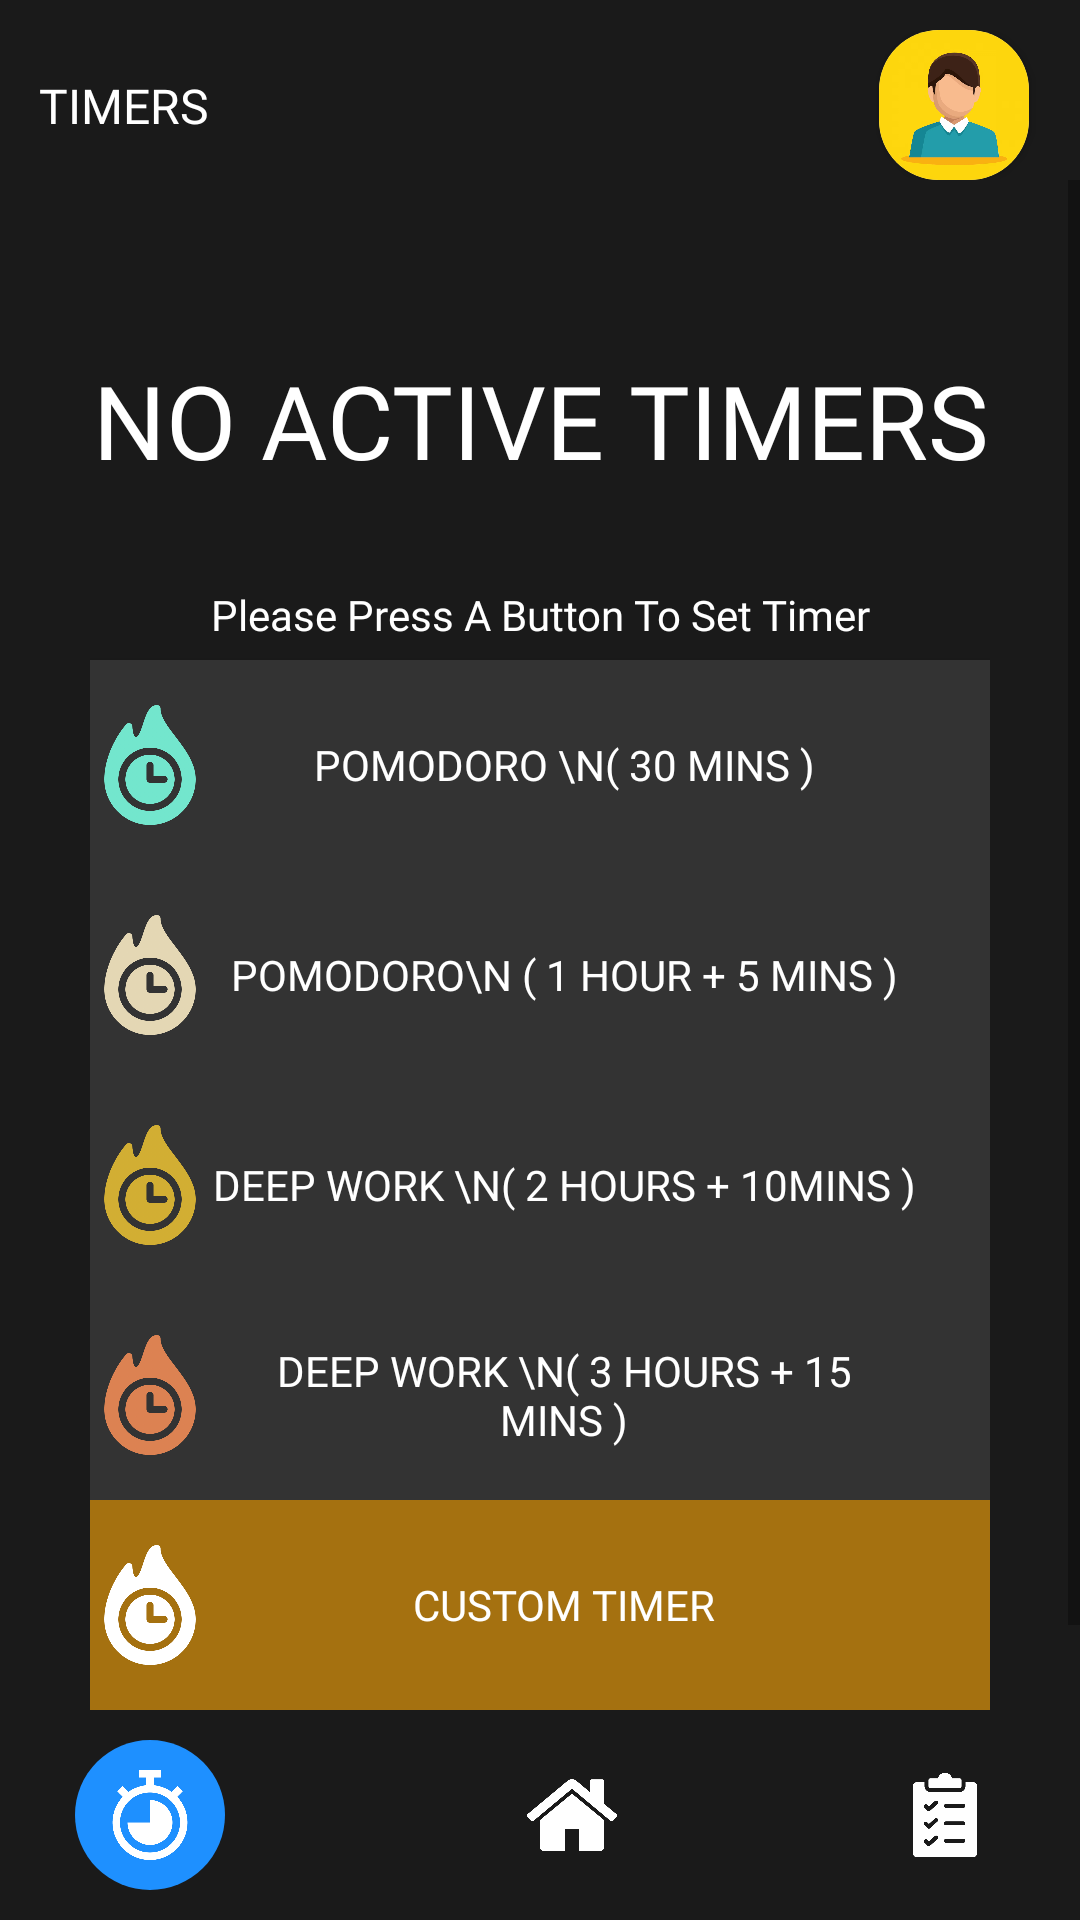

Named icons in this screenshot (1080px×1920px) and their centers, [x,y]:
checklist: [945,1815]
home: [572,1815]
